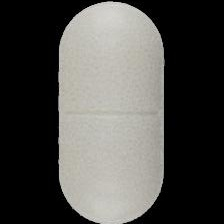76237-193: (0, 0, 224, 224)
